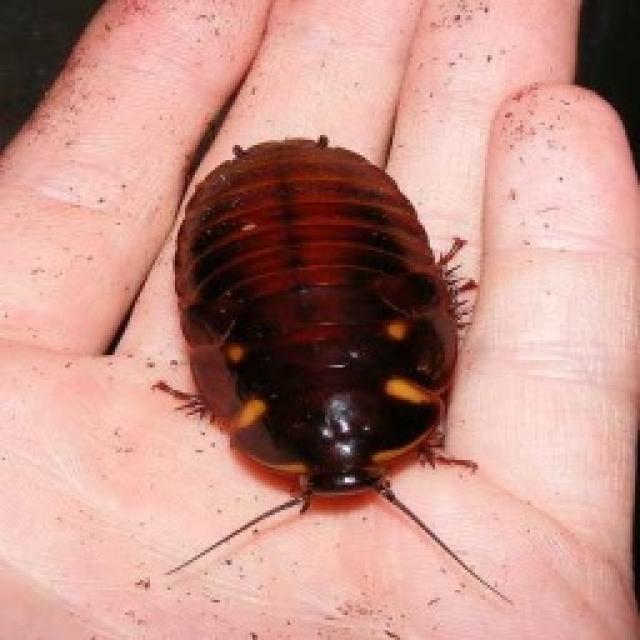cockroach: (121, 87, 490, 603)
